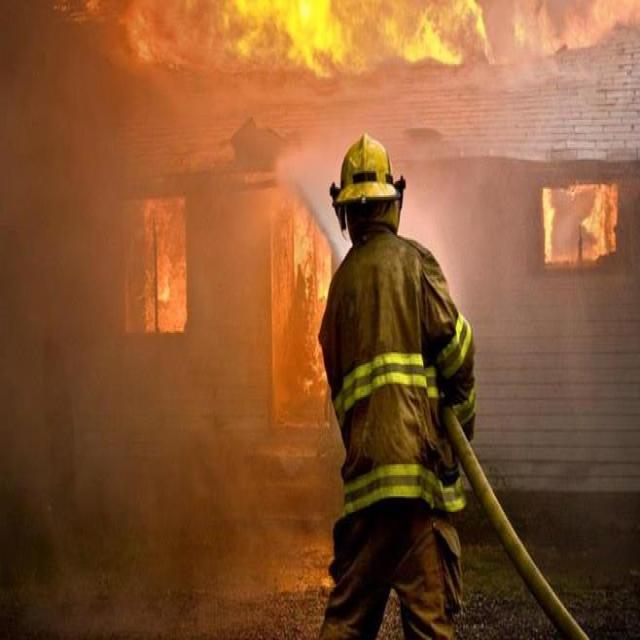Fire: (146, 0, 571, 92)
